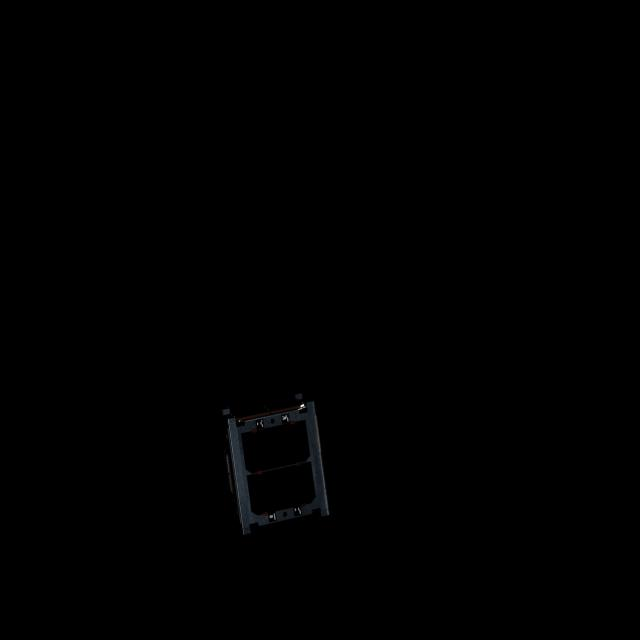satellite: (221, 388, 336, 534)
